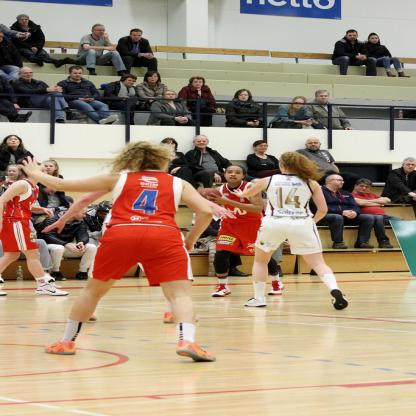Ball: (199, 187, 217, 203)
